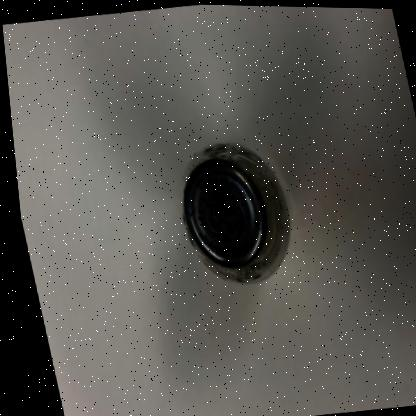Metal: (180, 158, 262, 265)
